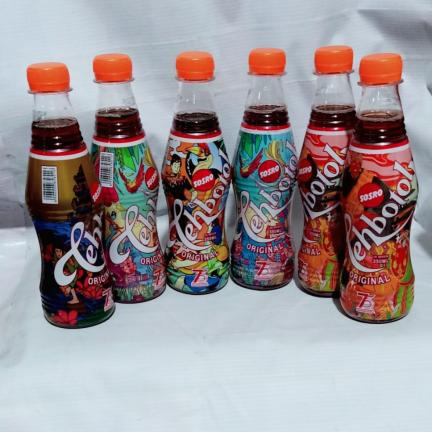container: (25, 63, 114, 328), (340, 54, 418, 323), (91, 54, 166, 303), (161, 52, 230, 294), (234, 48, 296, 290), (298, 46, 356, 297)
fluid: (25, 119, 114, 328), (339, 110, 418, 323), (90, 107, 166, 303), (162, 112, 230, 294), (231, 105, 296, 289), (295, 104, 355, 297)
fluid-surface: (357, 109, 402, 120), (32, 117, 76, 127), (174, 111, 215, 120), (97, 106, 136, 115), (313, 104, 354, 111), (246, 104, 284, 111)
